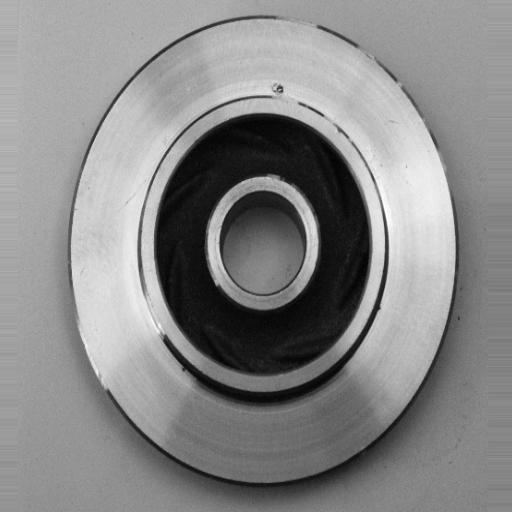crack: (255, 75, 304, 109)
scratch: (123, 224, 178, 357)
unpolished_casting: (65, 12, 458, 491)
